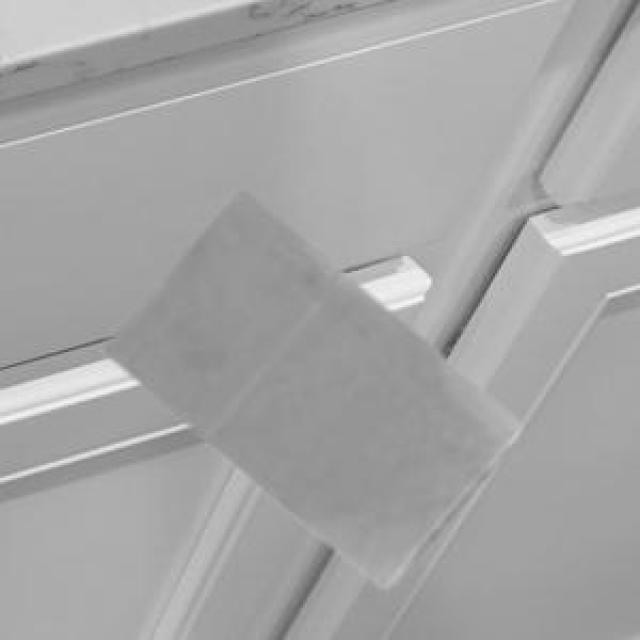paper: (100, 188, 514, 582)
